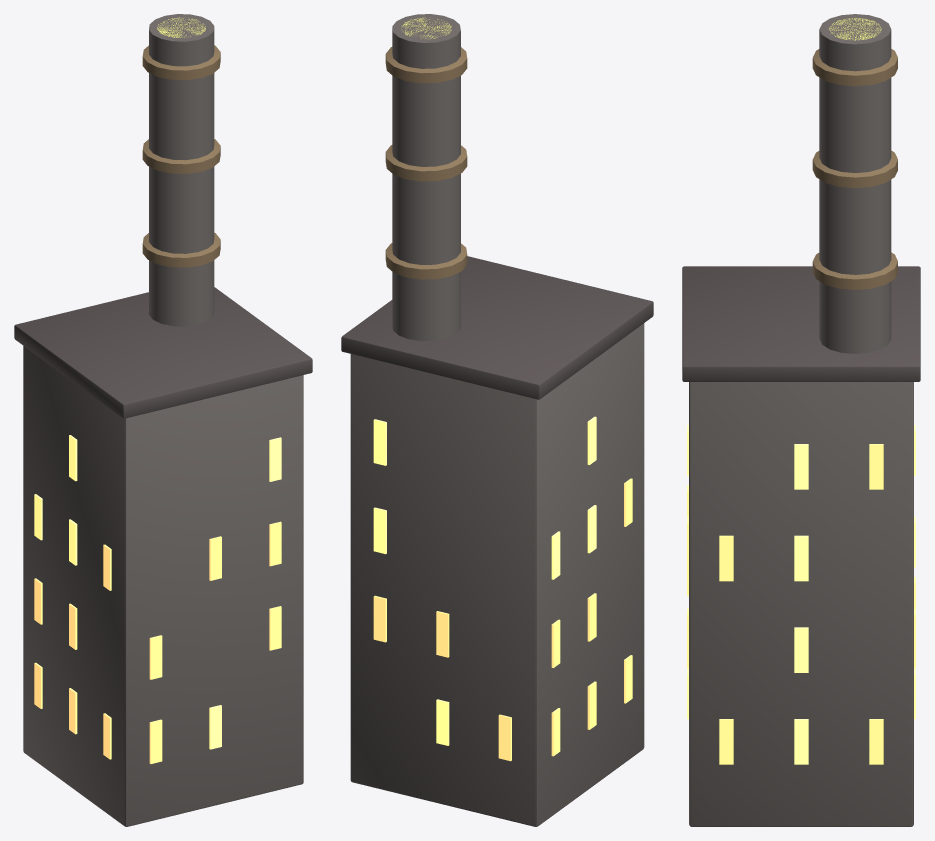
The model's file is SM_Area2_City_B.glb.
3 renders of one model, left to right at view 1: azimuth 30°, elevation 25°; view 2: azimuth 150°, elevation 25°; view 3: azimuth 270°, elevation 25°, orthographic. The views are drawn at different scales.
Parts seen in each view (by area): view 1: SM_Area2_City_B; view 2: SM_Area2_City_B; view 3: SM_Area2_City_B.
Boxes of the visible parts, x1,y1,x2,y2 form: SM_Area2_City_B: [14, 14, 312, 826]; SM_Area2_City_B: [341, 14, 653, 826]; SM_Area2_City_B: [682, 14, 920, 826].
Bounding box in the file's own units: 5.3 × 19 × 5.3.
